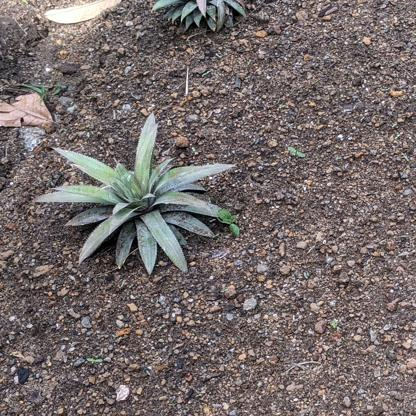pineapple: (32, 111, 236, 273), (152, 1, 262, 31)
